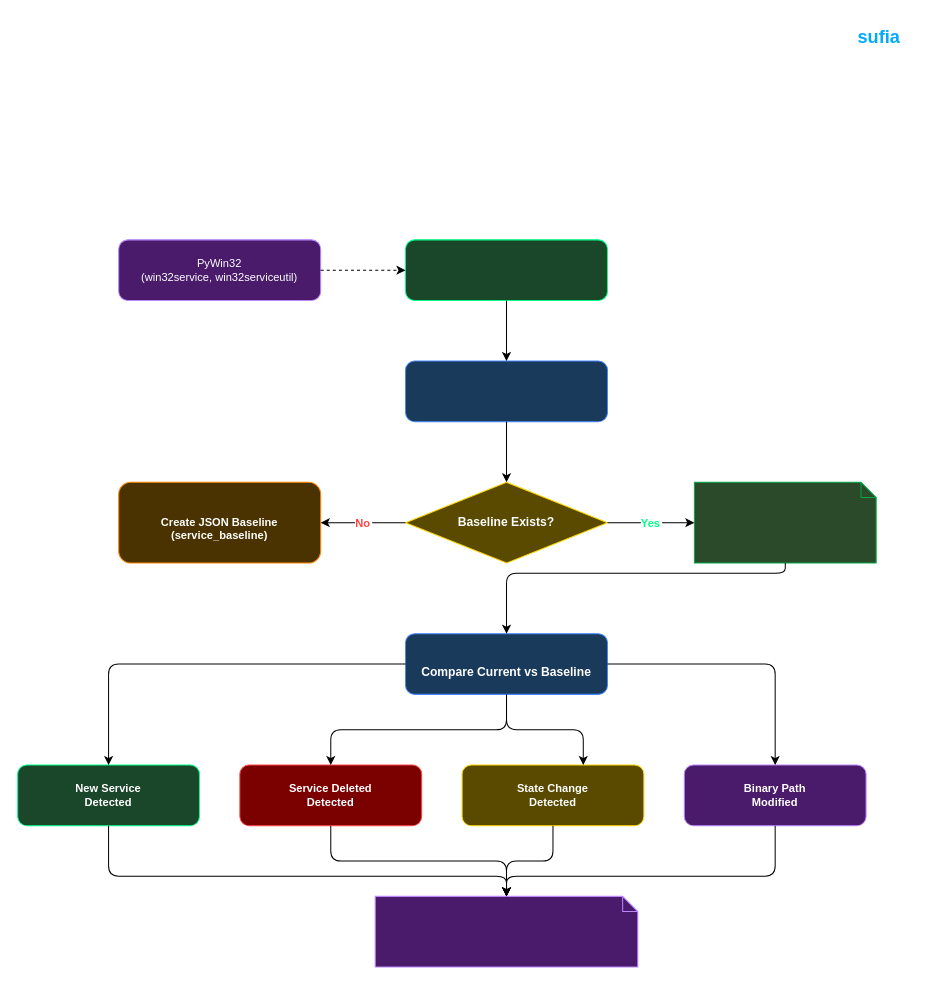
This 940x985 diagram has some shape labels left out. Here are the shapes that lost their labels. From the top down, the centre of each, then its label:
At (506,269): "Python Script".
At (506,391): "get services Extract: Name, State, Binary Path".
At (784,522): "JSON Baseline File".
At (506,931): "Log Alerts (service_monitor.log)".
